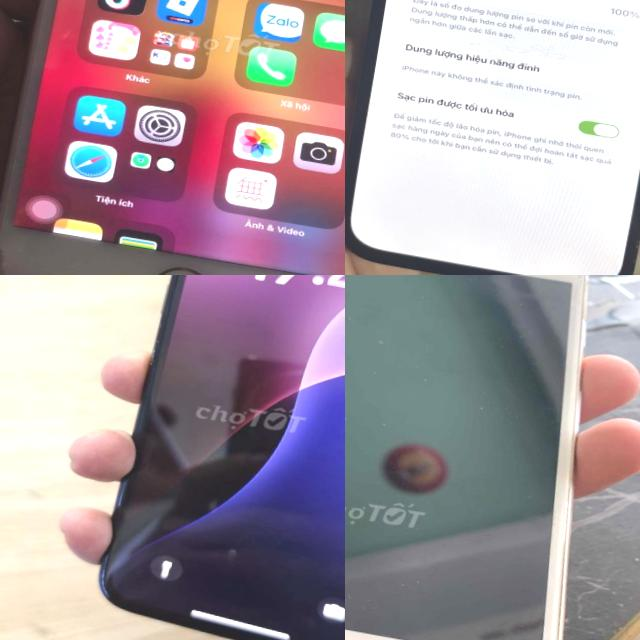gen_11: (52, 275, 345, 640)
gen_12_13: (345, 0, 640, 275)
gen_6: (345, 275, 640, 640)
gen_7_8: (0, 0, 345, 275)
